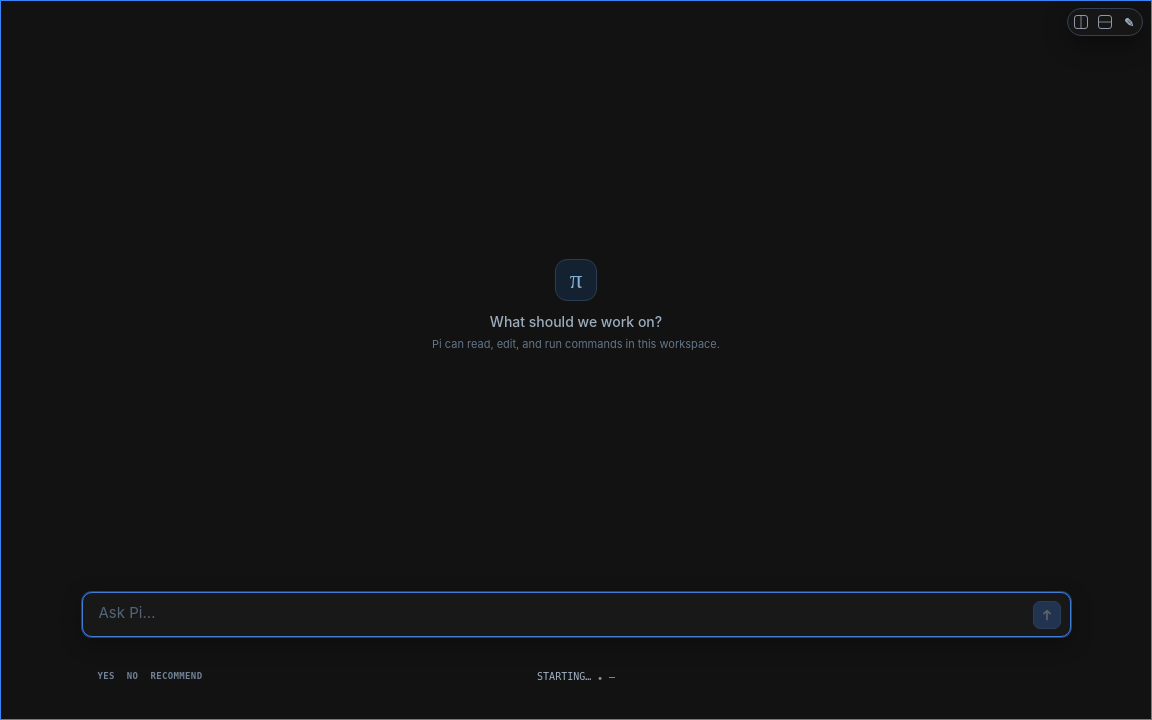
Test case: PiGuiView clipboard integration › preserves text and selection and shows an error after a failed cut
Type "hello world" into the text box with placeholder "Ask Pi…" at (560, 612), box x1=94 y1=598 x2=1024 y2=626
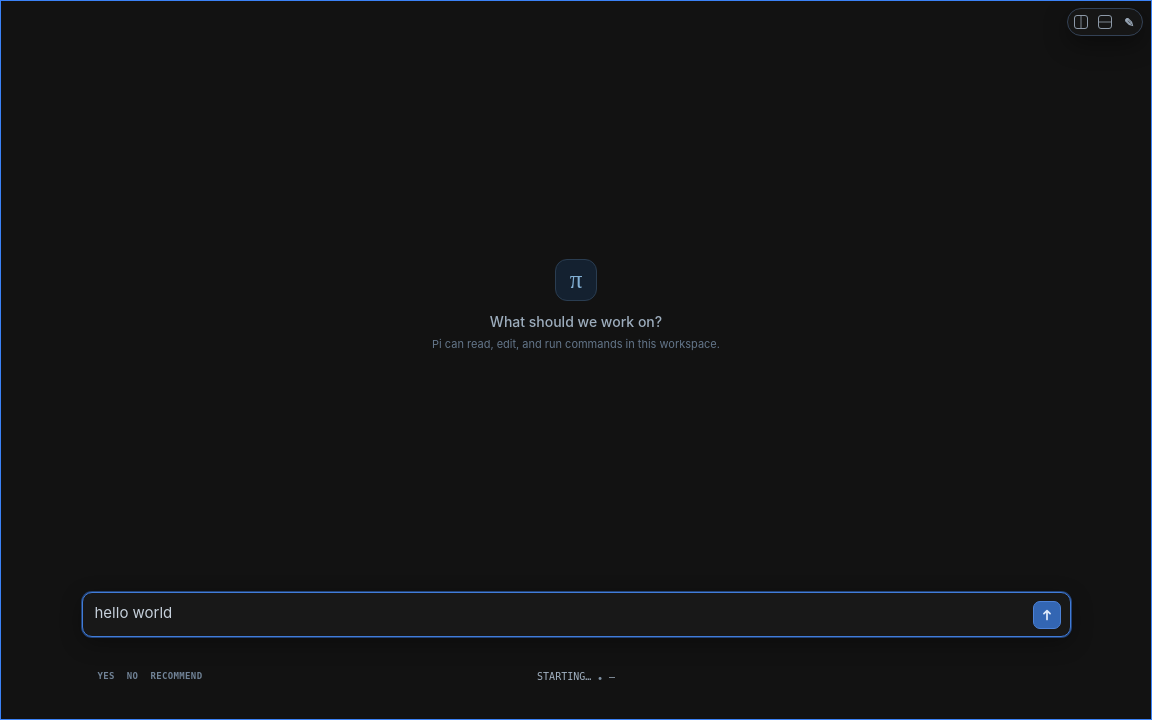
Press x in the text box, box x1=94 y1=598 x2=1024 y2=626
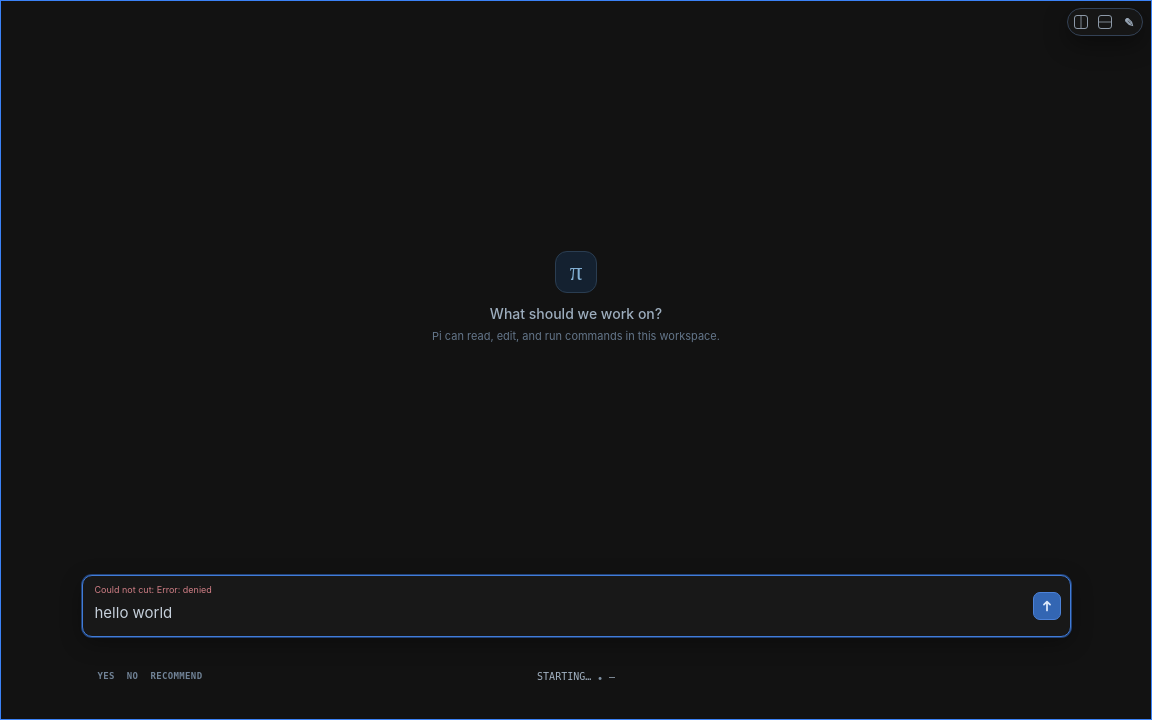
Result: the text "Could not cut: Error: denied" is shown at x1=94 y1=584 x2=212 y2=594
